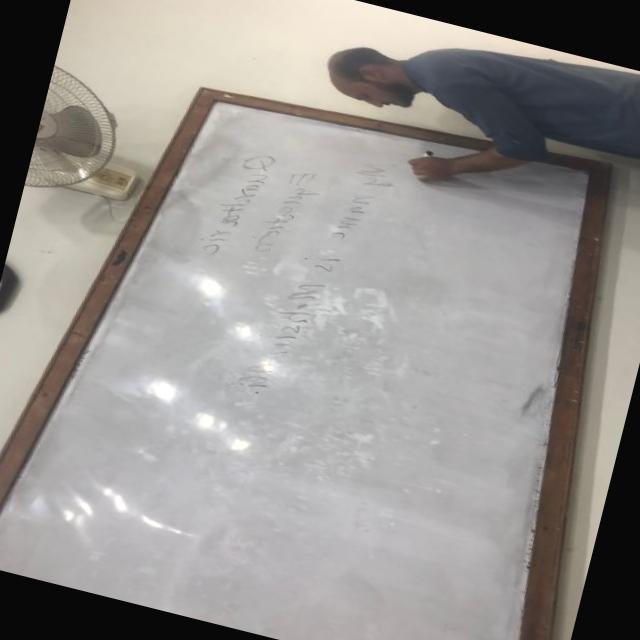Instructor: (300, 16, 640, 196)
White-board: (0, 91, 601, 640)
